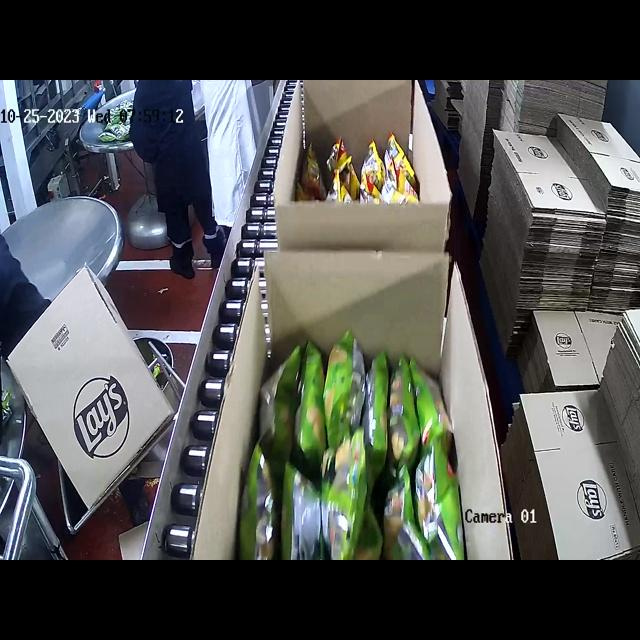salted: (313, 129, 410, 196)
yogurt: (273, 343, 466, 542)
